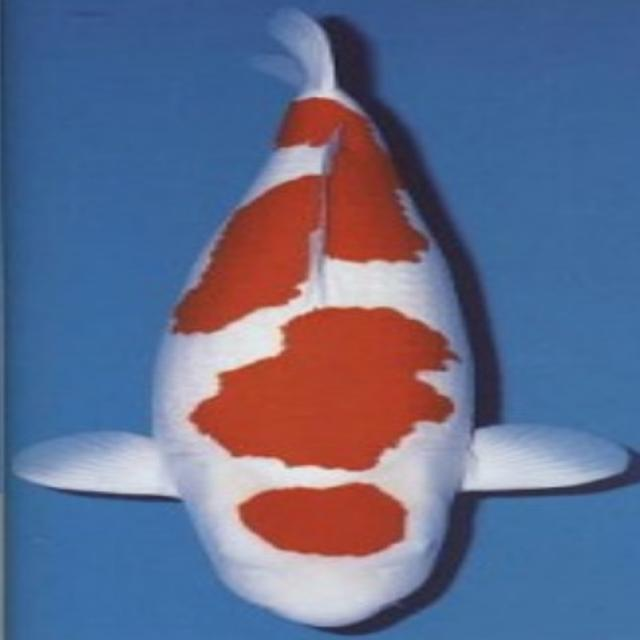Kohaku: (10, 5, 638, 633)
